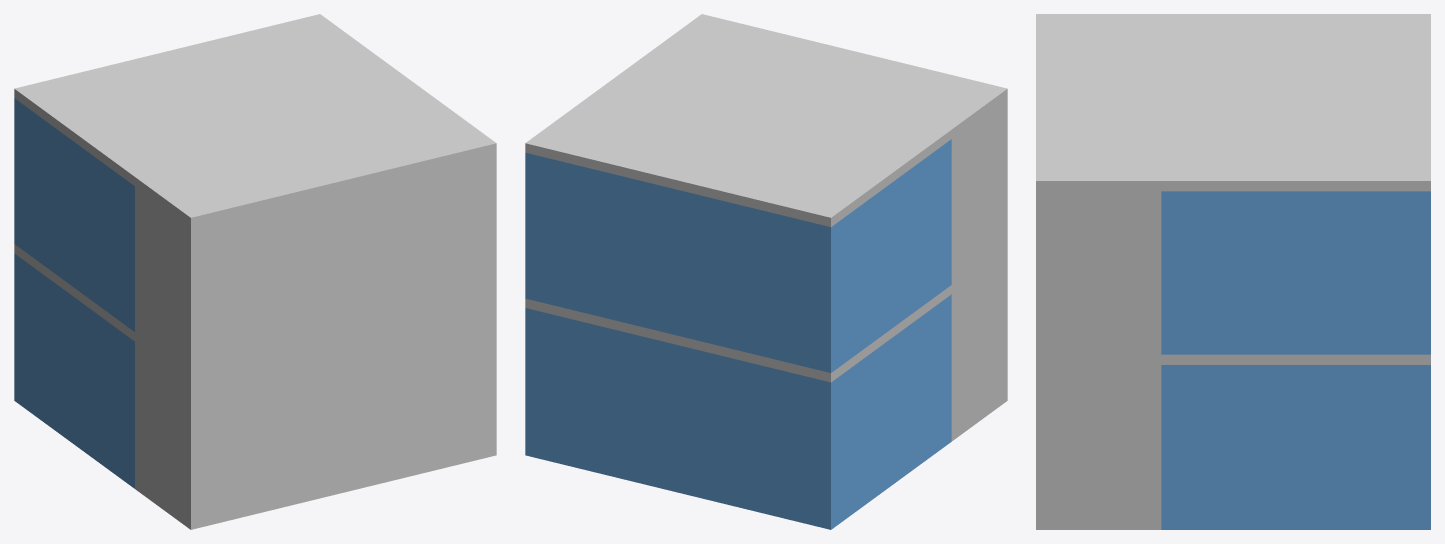
File: building_1x1_12_f.glb
3 views of the same model, side by side, from view 1: azimuth 30°, elevation 25°; view 2: azimuth 150°, elevation 25°; view 3: azimuth 270°, elevation 25° (orthographic). The views are drawn at different scales.
Parts seen in each view (by area): view 1: Cube.001; view 2: Cube.001; view 3: Cube.001.
Part boxes in pixels (bbox=[...]): Cube.001: bbox=[14, 14, 496, 529]; Cube.001: bbox=[525, 14, 1007, 529]; Cube.001: bbox=[1036, 14, 1430, 529].
Size of the model in its own units: 1.64 by 1.6 by 1.64.
